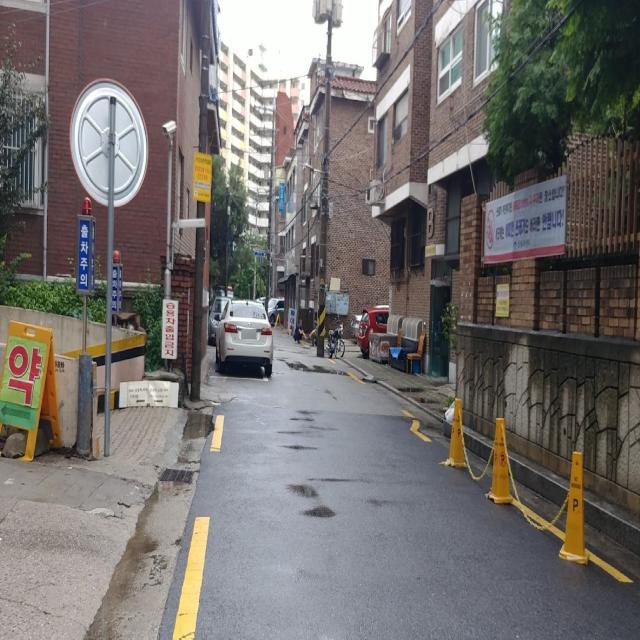barrier ahead at: (560, 447, 590, 570), (487, 412, 515, 508), (446, 390, 467, 475)
car ahead at: (218, 294, 274, 372)
